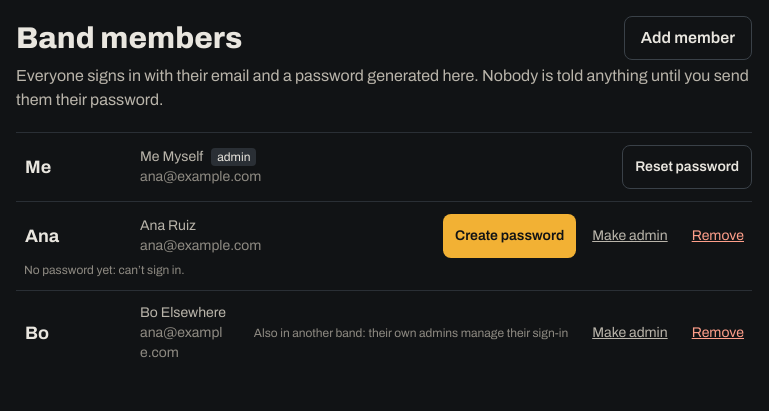
it: Members › shows an admin change that was refused
Click the button "Make admin" in the row of "Ana Ruiz": (630, 236) x1=584 y1=214 x2=676 y2=258
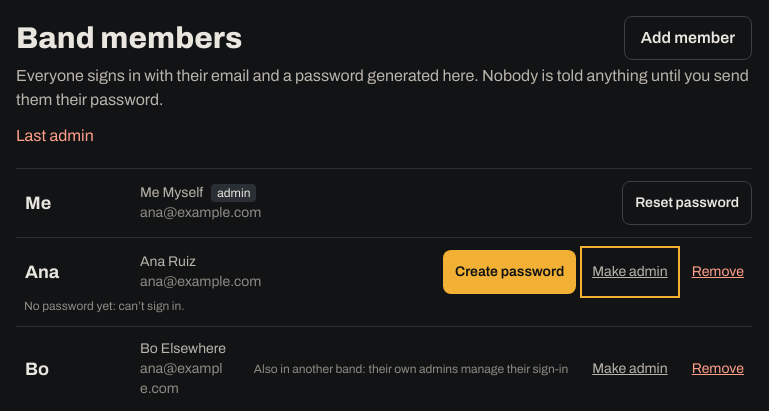
Now the message reads "Last admin", box x1=16 y1=127 x2=94 y2=144
